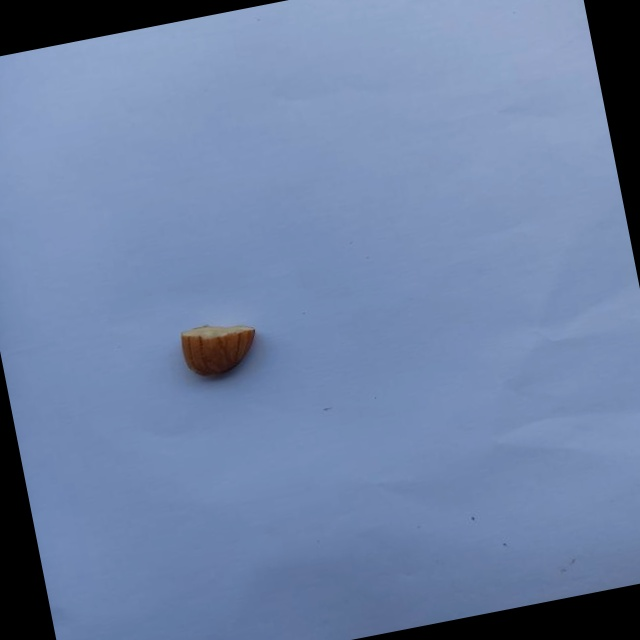grade4: (171, 311, 272, 389)
